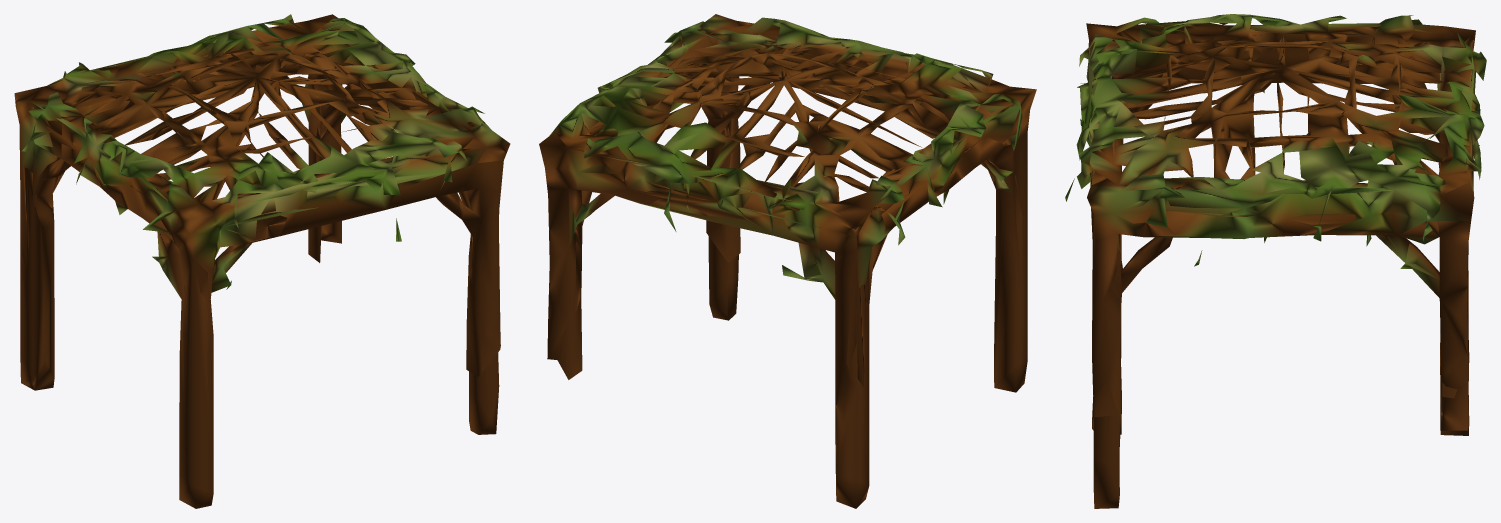
The model's file is gen3d-wooden-pergola-lod0.glb.
The picture shows the model from 3 angles, left to right: view 1: azimuth 30°, elevation 25°; view 2: azimuth 150°, elevation 25°; view 3: azimuth 270°, elevation 25°; orthographic projection. The views are drawn at different scales.
Parts seen in each view (by area): view 1: part_0; view 2: part_0; view 3: part_0.
Part boxes in pixels (x1,y1,x2,y2): part_0: (14, 14, 510, 508); part_0: (539, 14, 1036, 508); part_0: (1065, 14, 1486, 508).
Size of the model in its own units: 1.08 by 0.9832 by 1.03.
